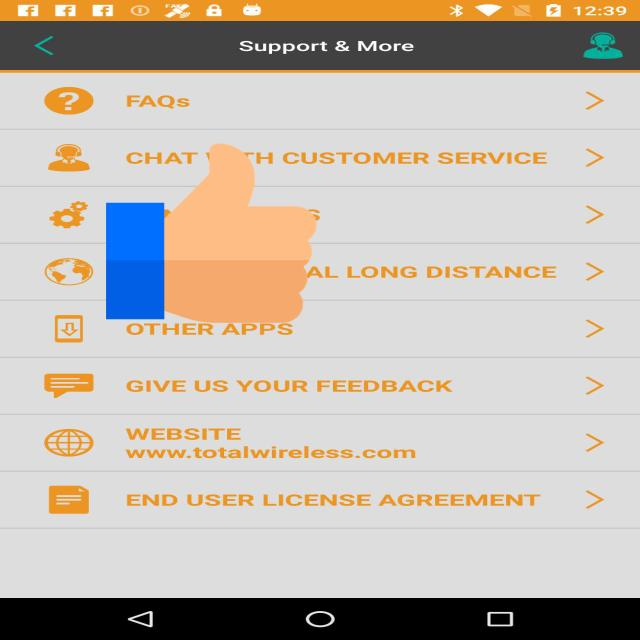privacy zuckering: (106, 139, 317, 327)
